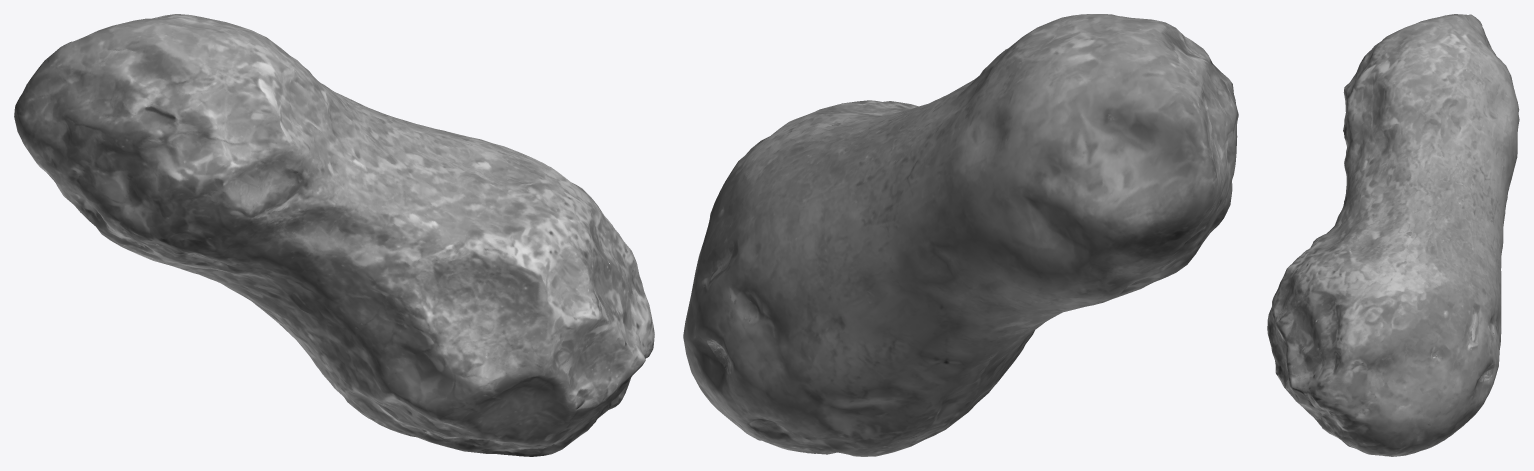
File: big_02.glb
3 renders of one model, left to right at view 1: azimuth 30°, elevation 25°; view 2: azimuth 150°, elevation 25°; view 3: azimuth 270°, elevation 25°, orthographic. The views are drawn at different scales.
Visible parts, largest first — view 1: big_02; view 2: big_02; view 3: big_02.
Part boxes in pixels (box(x1,y1,x2,y2)): big_02: box(14, 14, 654, 456); big_02: box(683, 14, 1238, 456); big_02: box(1267, 14, 1519, 456).
Bounding box in the file's own units: 1.63 × 1.37 × 0.9839.
1 material, 1 textured.
